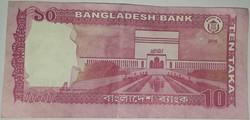10 taka: (10, 2, 246, 120)
